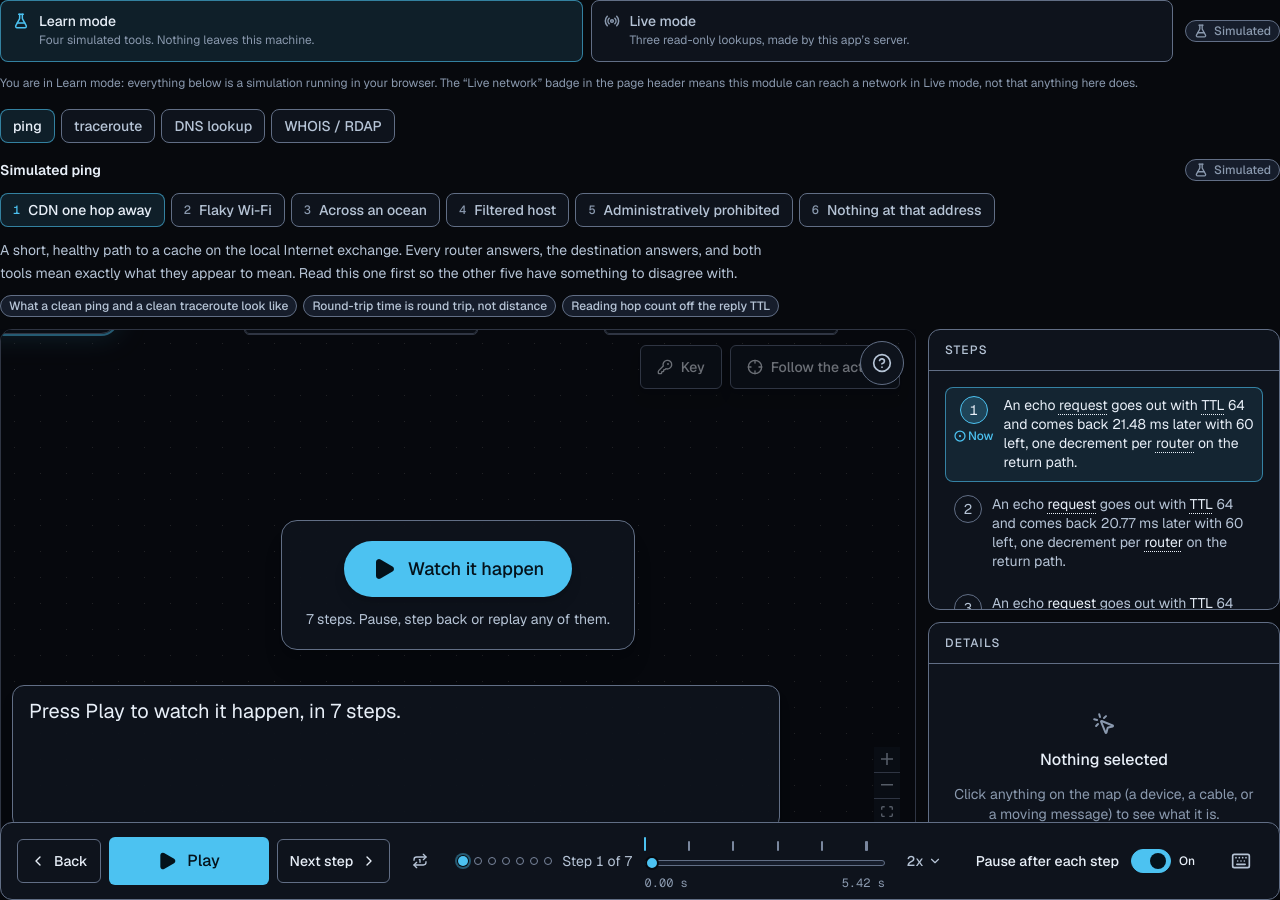
live mode › labels the live ping as TCP and HTTP timing rather than ICMP
Click the button "Live mode".
click(882, 31)  # box x1=590 y1=0 x2=1173 y2=62
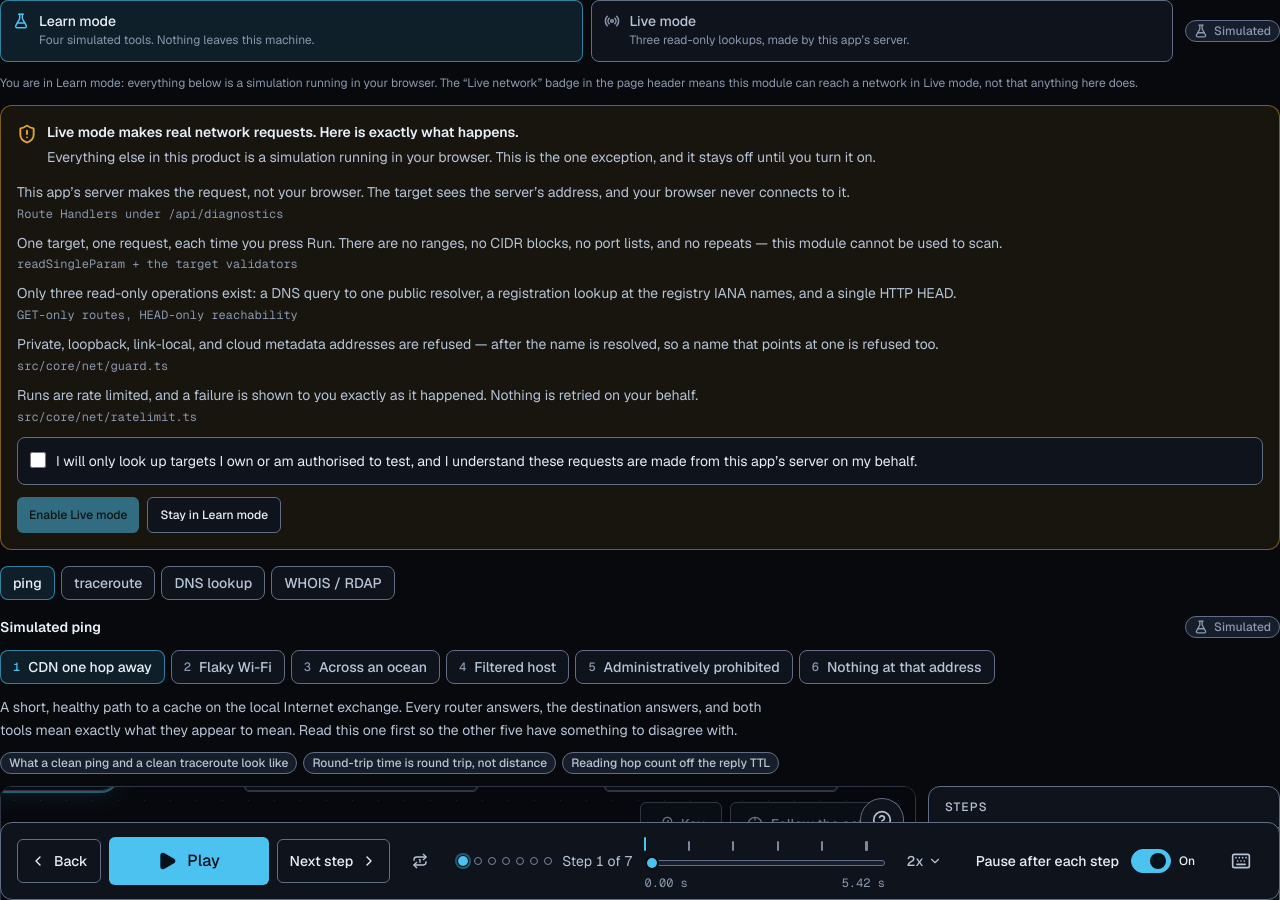
Click the checkbox.
click(38, 460)  # box x1=30 y1=452 x2=46 y2=468
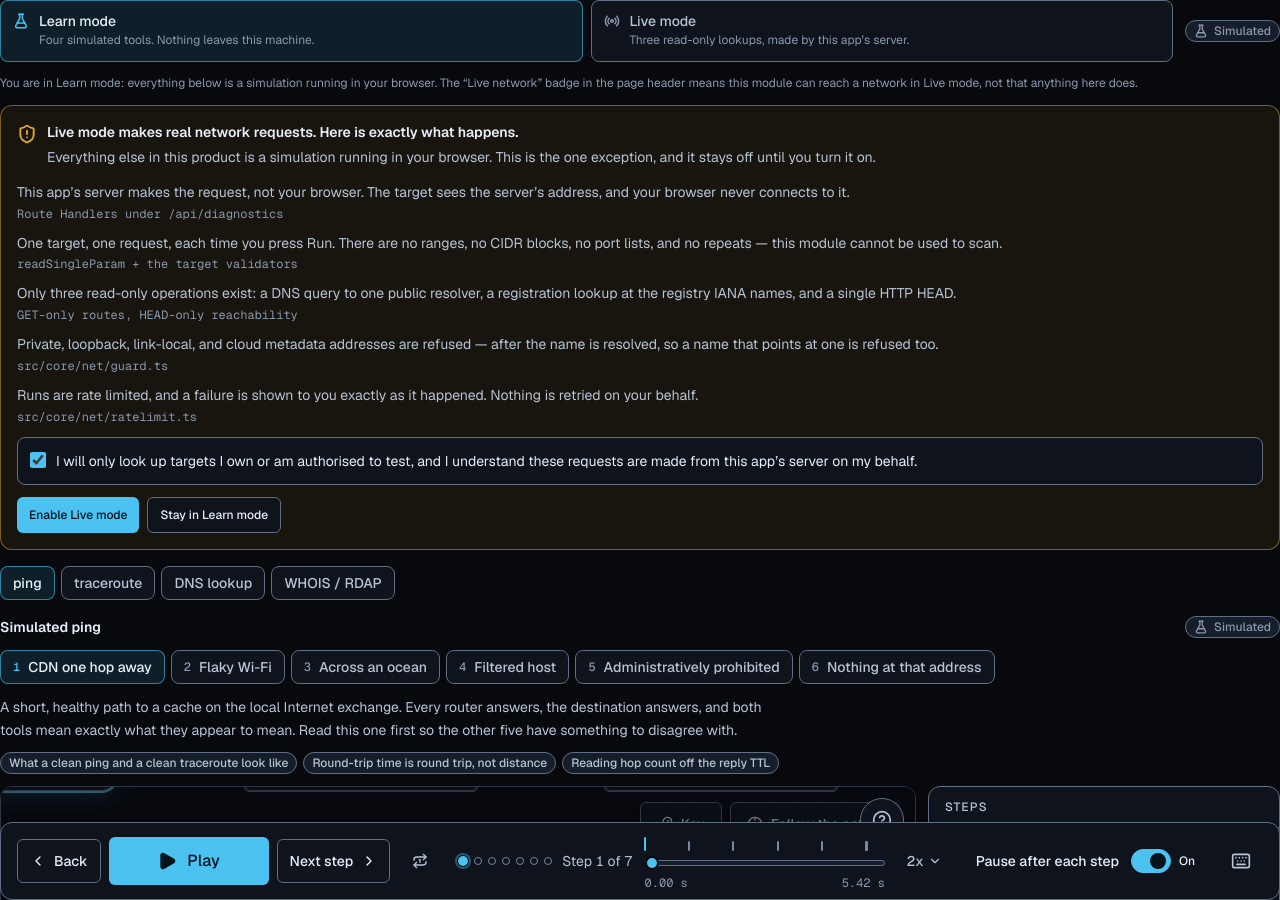
Click the button "Enable Live mode".
click(78, 515)  # box x1=17 y1=497 x2=140 y2=533
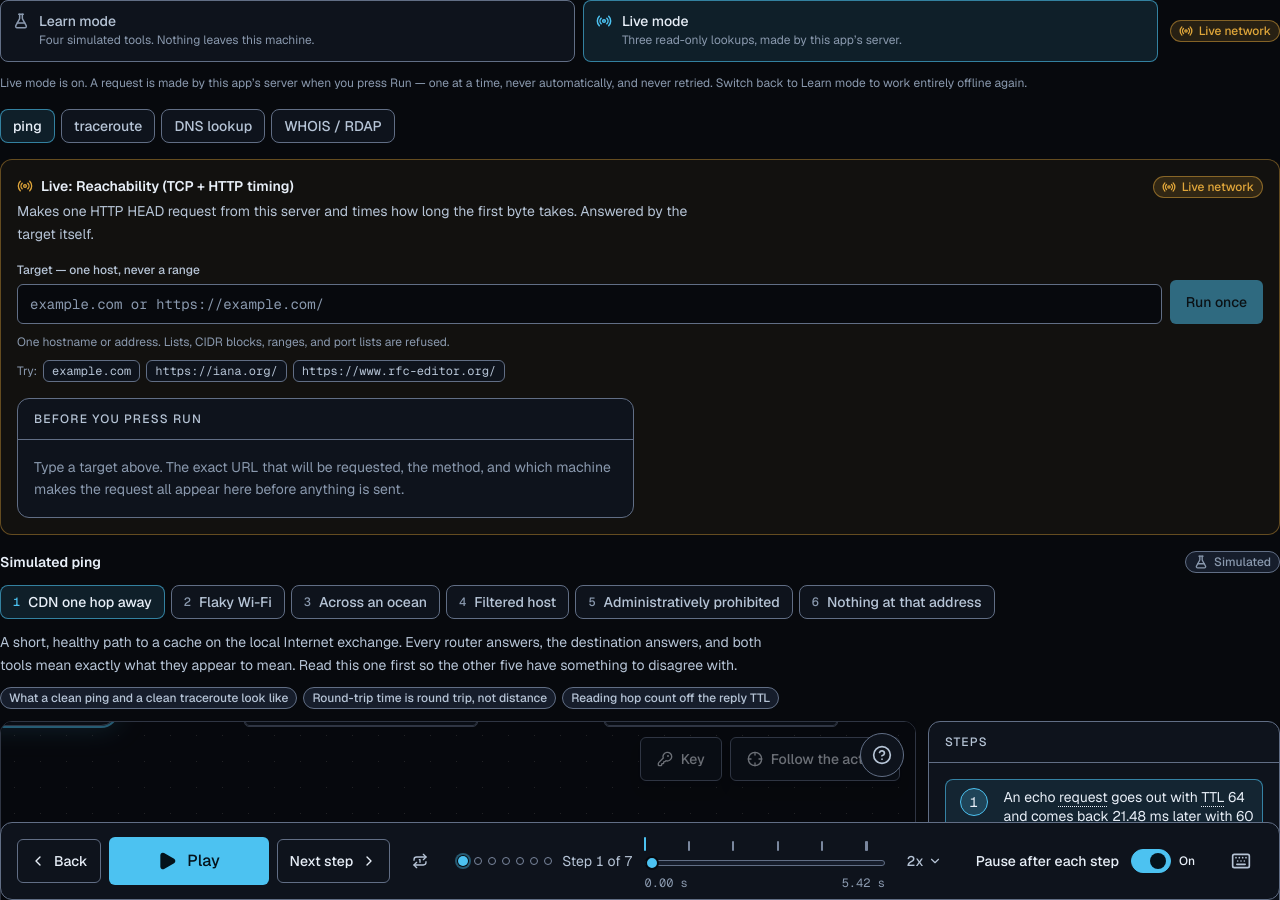
Check: the heading "Live: Reachability (TCP + HTTP timing)" is shown, box x1=17 y1=177 x2=294 y2=195
Type "example.com" into the field labelled "Target — one host, never a range".
click(589, 304); type("example.com")  # box x1=17 y1=284 x2=1162 y2=324
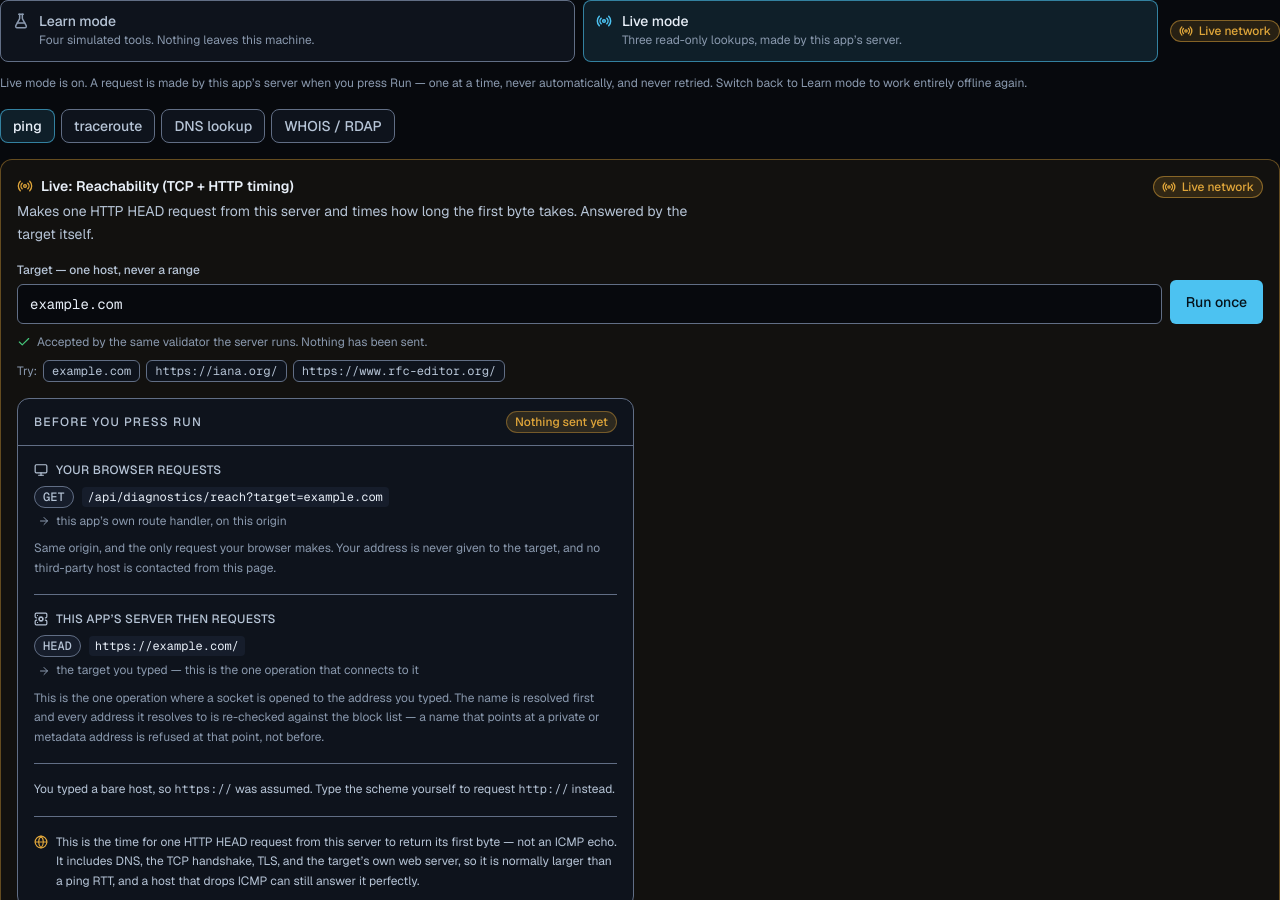
Check: the text "not an ICMP echo" is shown, box x1=56 y1=834 x2=617 y2=888
Check: the text "HEAD" is shown, box x1=43 y1=638 x2=72 y2=654
